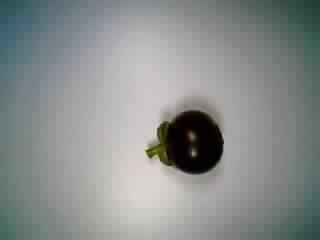mangosteen: (143, 96, 224, 176)
